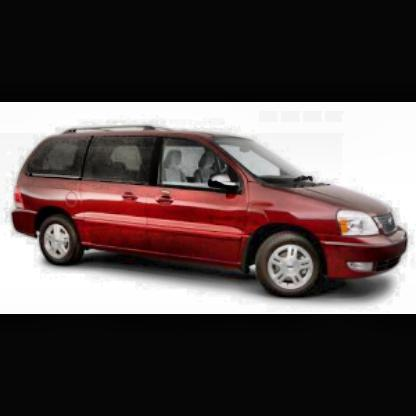Ford Freestar Minivan 2007: (8, 123, 414, 294)
